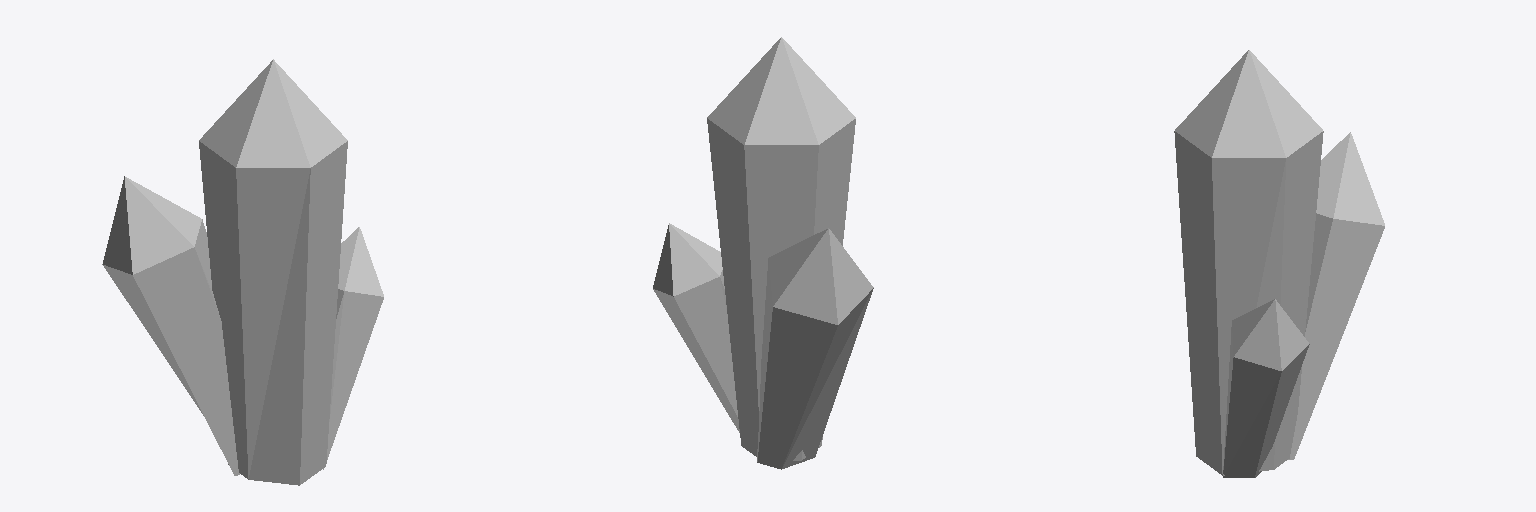
The model's file is crystal2.obj.
3 views of the same model, side by side, from view 1: azimuth 30°, elevation 25°; view 2: azimuth 150°, elevation 25°; view 3: azimuth 270°, elevation 25° (orthographic).
Parts seen in each view (by area): view 1: Crystal_001.001; view 2: Crystal_001.001; view 3: Crystal_001.001.
Part boxes in pixels (x1,y1,x2,y2): Crystal_001.001: (102,59,383,485); Crystal_001.001: (653,37,873,469); Crystal_001.001: (1174,50,1384,477).
Bounding box in the file's own units: 0.86 × 1.49 × 0.6867.